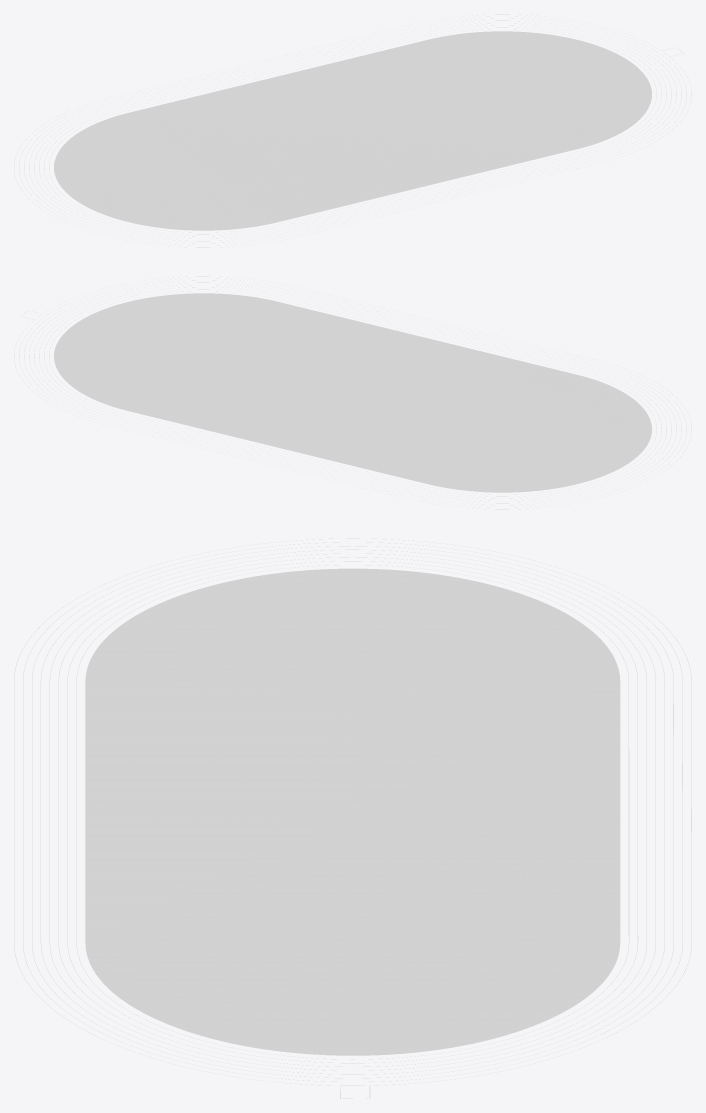
The model's file is Lines.FBX.
3 views of the same model, one above another, from view 1: azimuth 30°, elevation 25°; view 2: azimuth 150°, elevation 25°; view 3: azimuth 270°, elevation 25° (orthographic). The views are drawn at different scales.
Parts seen in each view (by area): view 1: Lines; view 2: Lines; view 3: Lines.
Boxes of the visible parts, x1,y1,x2,y2 form: Lines: (14, 14, 691, 247); Lines: (14, 276, 691, 509); Lines: (14, 538, 691, 1098).
Size of the model in its own units: 1809 by 2.62e-13 by 926.
